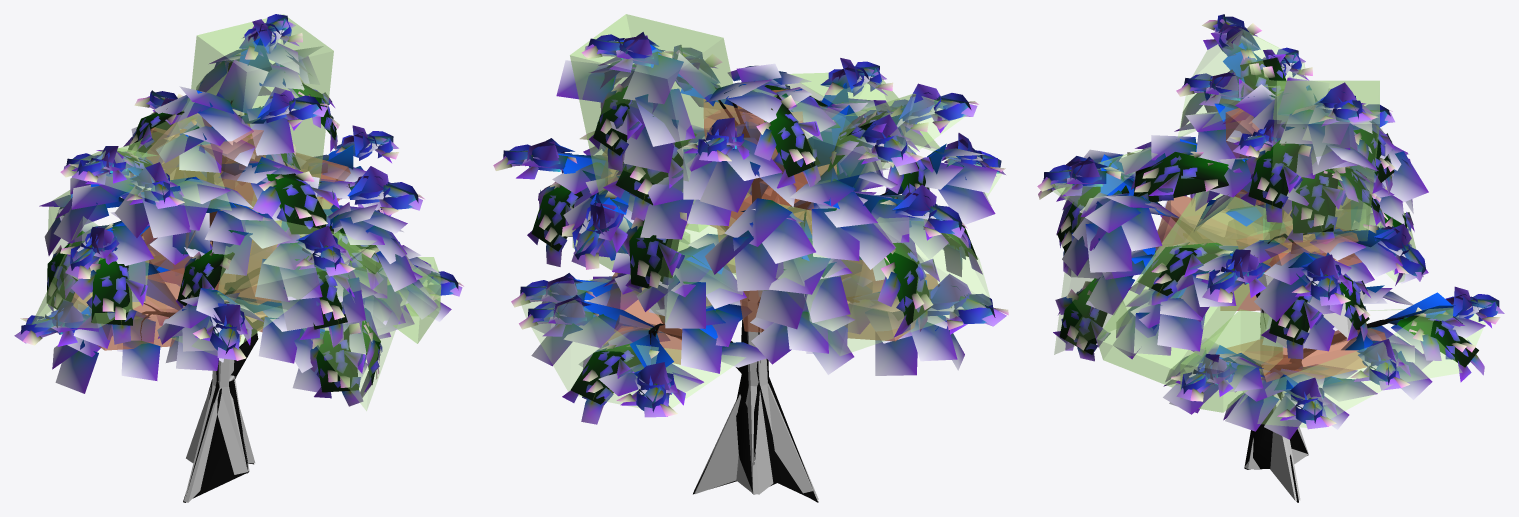
The model's file is tro_tree_2_filler.dae.
3 views of the same model, side by side, from view 1: azimuth 30°, elevation 25°; view 2: azimuth 150°, elevation 25°; view 3: azimuth 270°, elevation 25° (orthographic). The views are drawn at different scales.
Visible parts, largest first — view 1: tree_oak_bush_a880, Colmesh-1, tree_oak_bush_a310; view 2: tree_oak_bush_a880, Colmesh-1, tree_oak_bush_a310; view 3: tree_oak_bush_a880, Colmesh-1, tree_oak_bush_a310.
Boxes of the visible parts, <box> form: tree_oak_bush_a880: <box>14,14,463,502</box>; Colmesh-1: <box>31,14,441,502</box>; tree_oak_bush_a310: <box>22,16,458,498</box>; tree_oak_bush_a880: <box>493,32,1008,502</box>; Colmesh-1: <box>520,14,1001,500</box>; tree_oak_bush_a310: <box>504,35,1004,496</box>; tree_oak_bush_a880: <box>1037,14,1504,502</box>; Colmesh-1: <box>1052,26,1485,500</box>; tree_oak_bush_a310: <box>1043,15,1504,469</box>.
Size of the model in its own units: 21.36 by 20.29 by 20.67.
